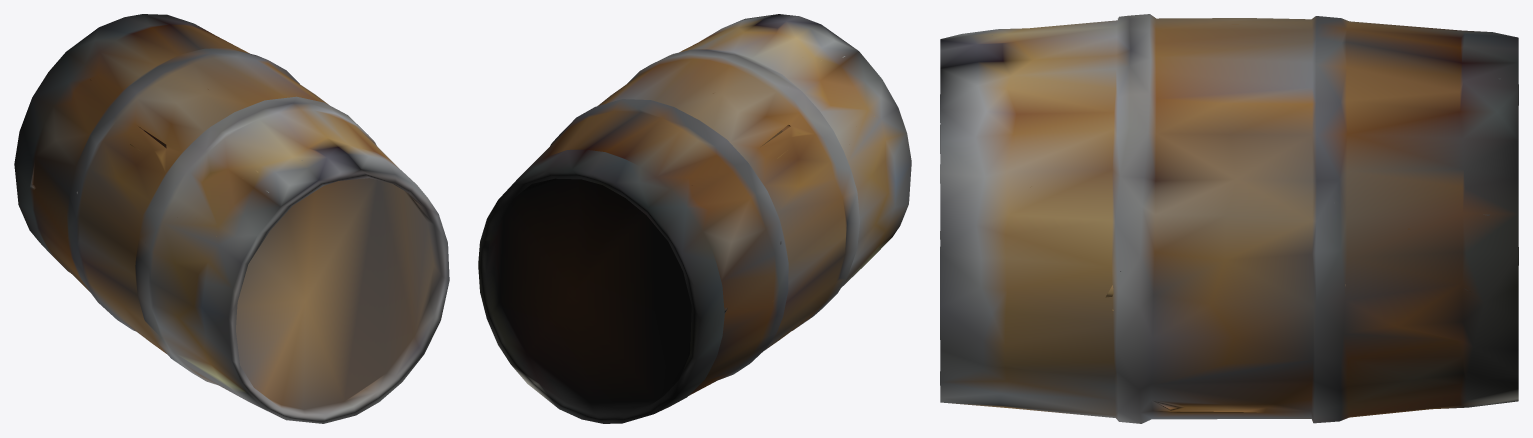
The model's file is barrel-oak.glb.
3 views of the same model, side by side, from view 1: azimuth 30°, elevation 25°; view 2: azimuth 150°, elevation 25°; view 3: azimuth 270°, elevation 25° (orthographic). The views are drawn at different scales.
Parts seen in each view (by area): view 1: barrel-oak; view 2: barrel-oak; view 3: barrel-oak.
Part boxes in pixels (x1,y1,x2,y2): barrel-oak: [14, 14, 449, 423]; barrel-oak: [478, 14, 911, 423]; barrel-oak: [940, 14, 1518, 423].
Size of the model in its own units: 0.6784 by 0.7219 by 1.
